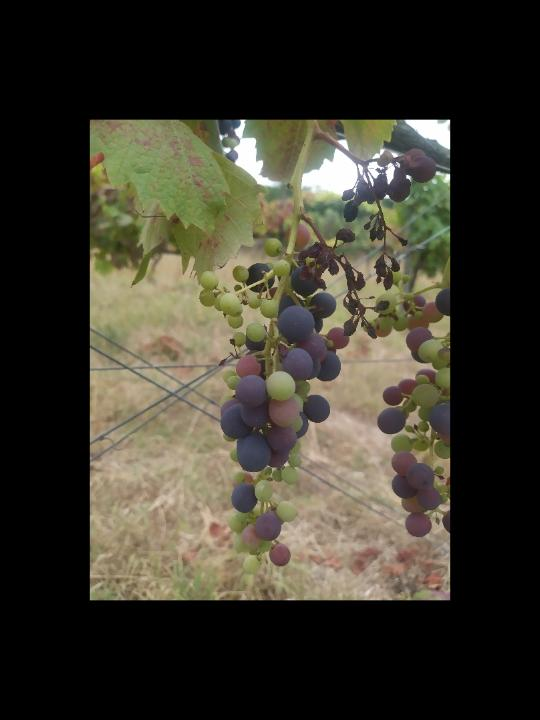grape: (195, 222, 390, 580), (341, 146, 436, 291)
